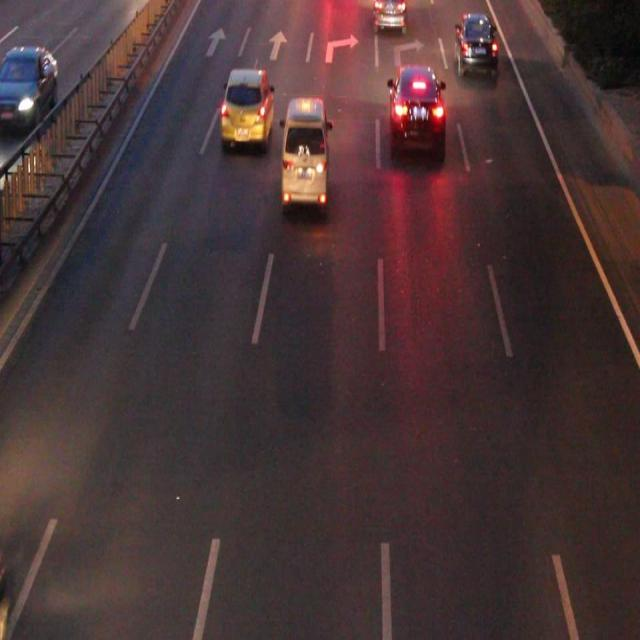car: (390, 70, 442, 152), (221, 69, 272, 142), (454, 16, 496, 72), (372, 1, 405, 27)
truck: (282, 99, 327, 203)
